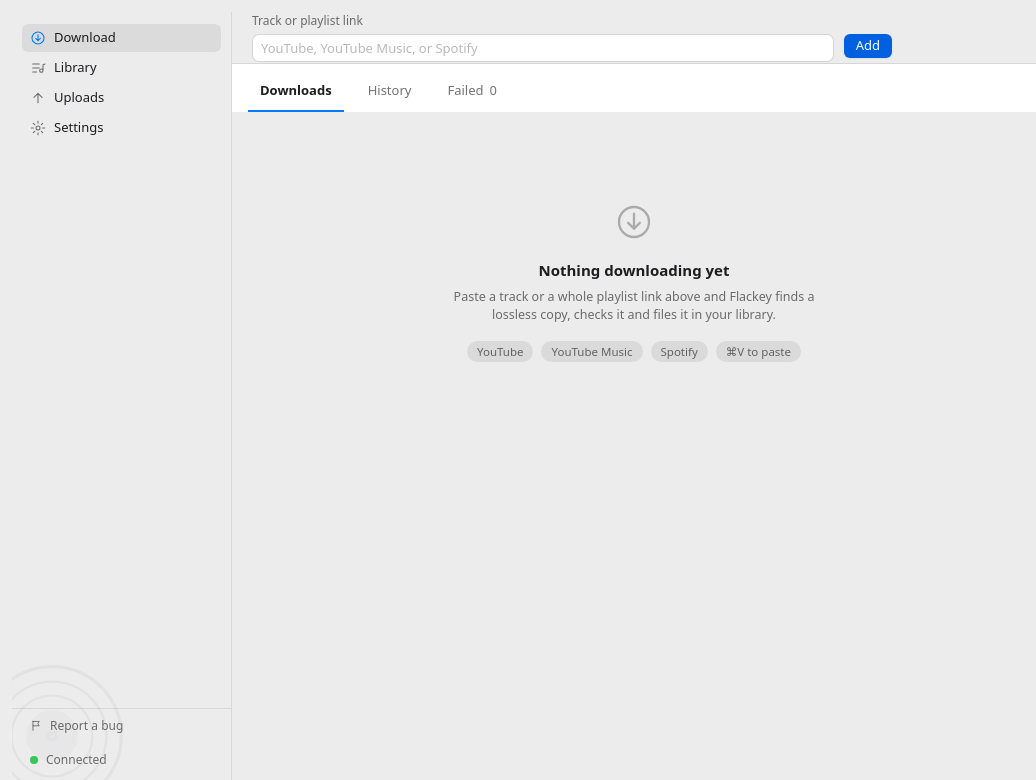
Test: losing Flackey itself (WEB-9) › says it is reconnecting on Uploads, not only on Download
The image size is (1036, 780).
Expected: the text "Connected" is shown, [30, 752, 107, 768]
What coordinates should you click on to do the following:
click the button "Uploads"
I would click on:
 (122, 98)
Its box is [22, 84, 221, 112].
Wait 5100 ms
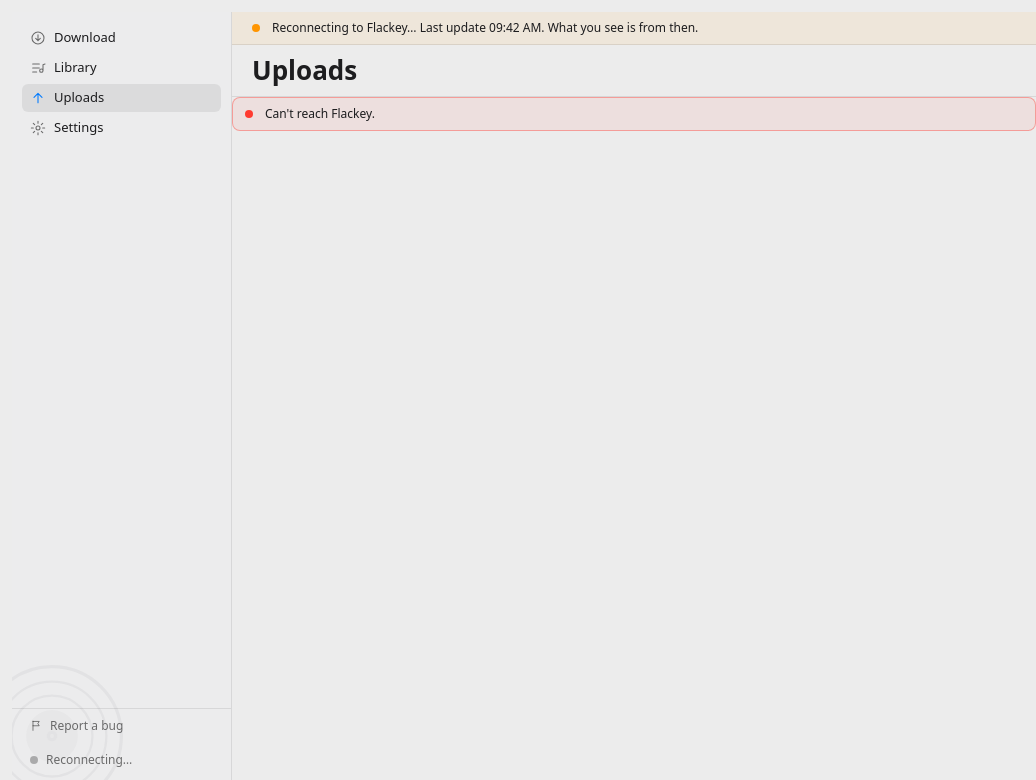
Result: the text "Reconnecting to Flackey… Last update" is shown at [272, 19, 698, 36]
